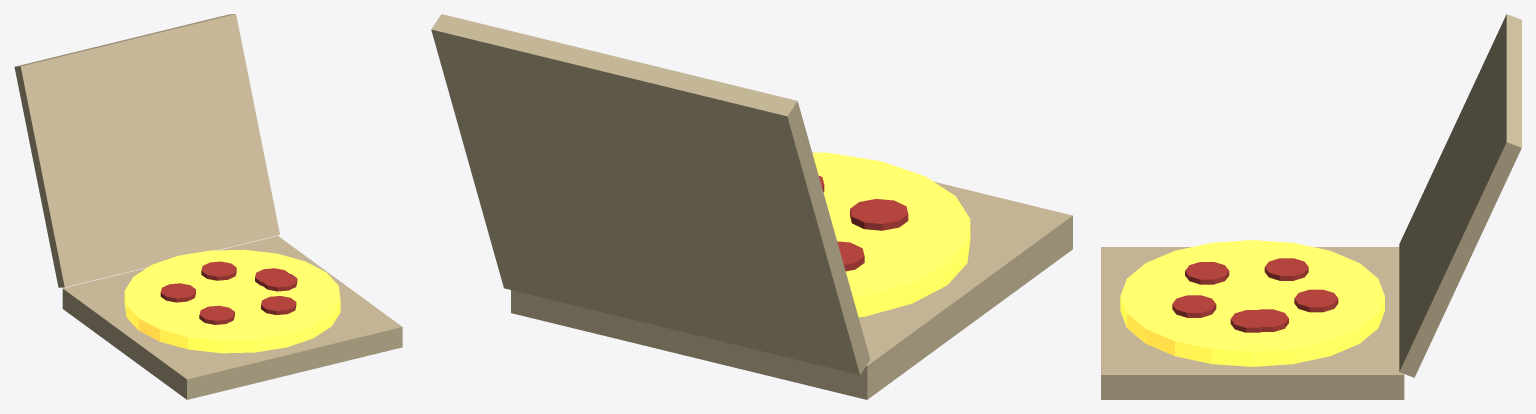
Rendered from pizza.glb.
The picture shows the model from 3 angles, left to right: view 1: azimuth 30°, elevation 25°; view 2: azimuth 150°, elevation 25°; view 3: azimuth 270°, elevation 25°; orthographic projection. The views are drawn at different scales.
Visible parts, largest first — view 1: pizza_mesh; view 2: pizza_mesh; view 3: pizza_mesh.
Part boxes in pixels (<box>): pizza_mesh: <box>14,14,402,399</box>; pizza_mesh: <box>431,14,1072,399</box>; pizza_mesh: <box>1101,14,1521,399</box>.
Size of the model in its own units: 0.55 by 0.5164 by 0.7635.
